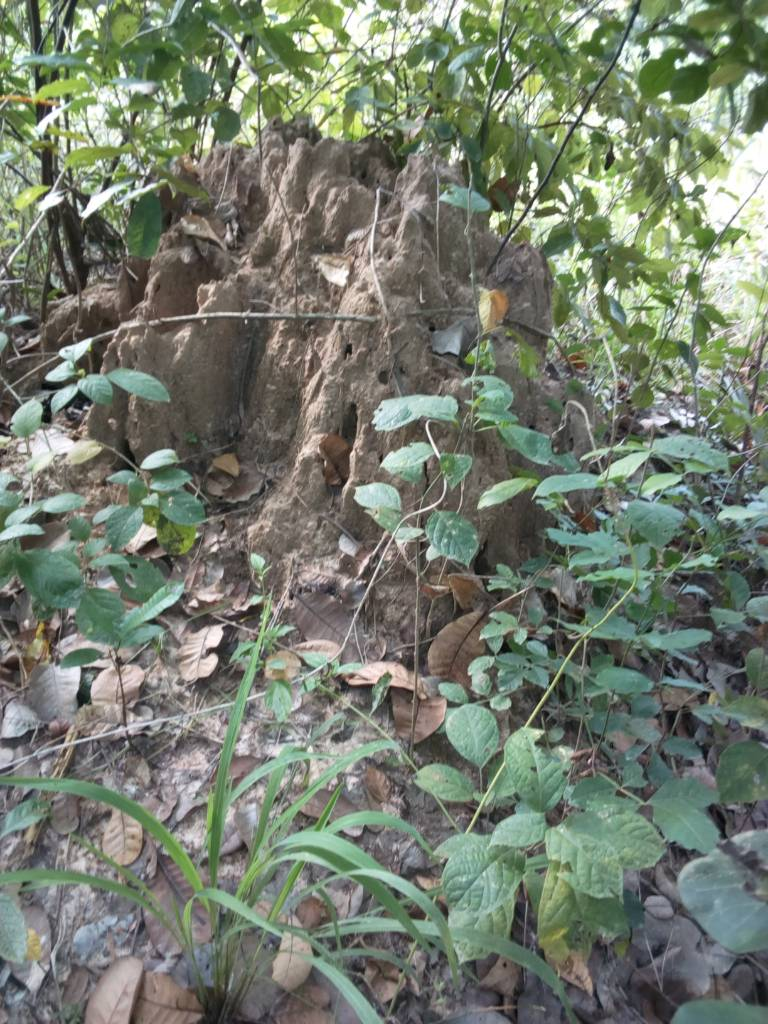Termites: (272, 144, 491, 371), (147, 263, 269, 432), (285, 399, 355, 550)
